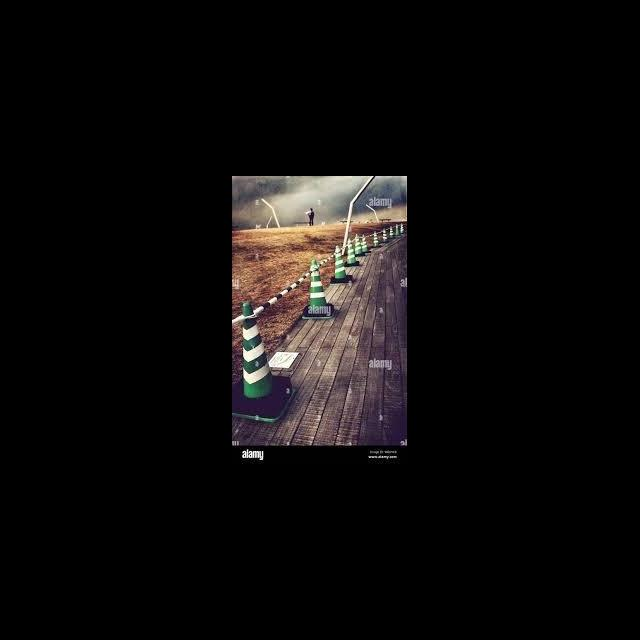NO-Safety Vest: (310, 212, 315, 219)
Person: (308, 208, 315, 225)
Safety Cone: (234, 301, 298, 424), (303, 261, 334, 320), (329, 247, 354, 286), (342, 239, 360, 266), (351, 234, 364, 259), (359, 231, 370, 255), (382, 228, 390, 244), (374, 232, 381, 248), (389, 226, 397, 236), (400, 224, 406, 235), (396, 225, 401, 236)
